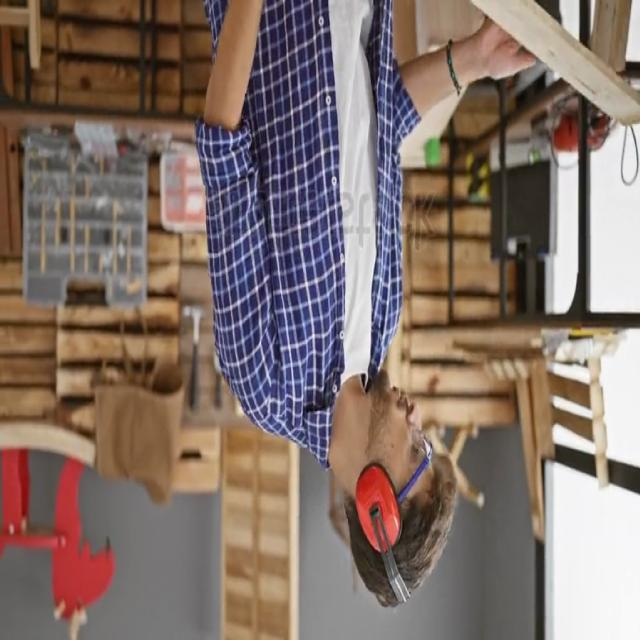Ear-Protection: (348, 459, 402, 560)
Glasses: (395, 416, 431, 512)
